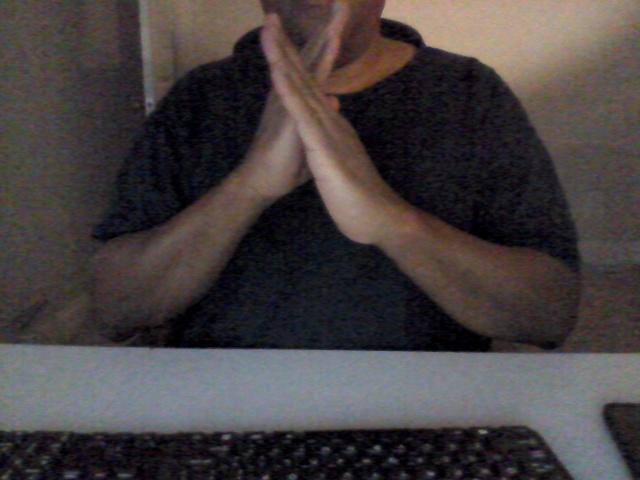quiet: (248, 7, 382, 244)
